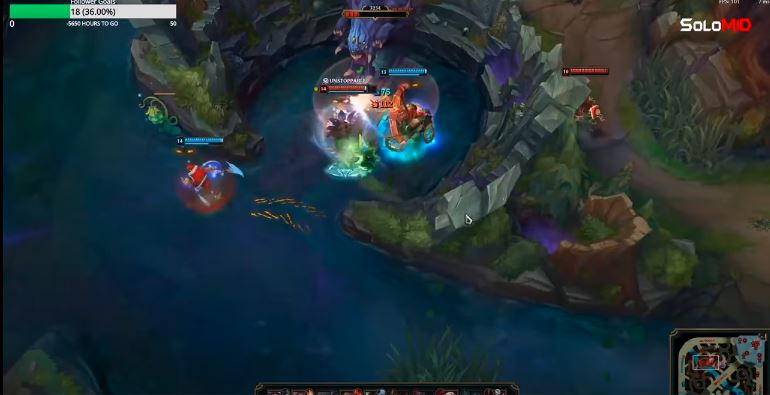bar: (317, 82, 378, 95), (559, 66, 611, 78), (175, 134, 230, 145), (377, 67, 432, 77)
